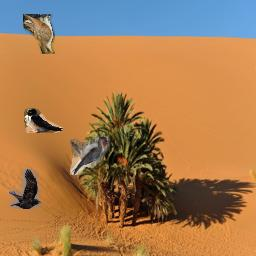Crow: (9, 169, 41, 209)
Cuckoo: (23, 14, 55, 54)
Swallow: (70, 136, 110, 175), (24, 108, 64, 133)
